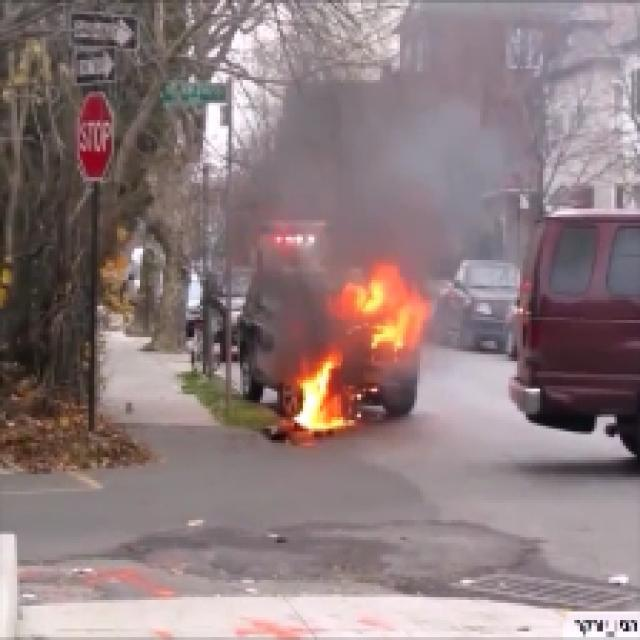Fire: (297, 272, 420, 434)
Smoke: (337, 132, 457, 255)
